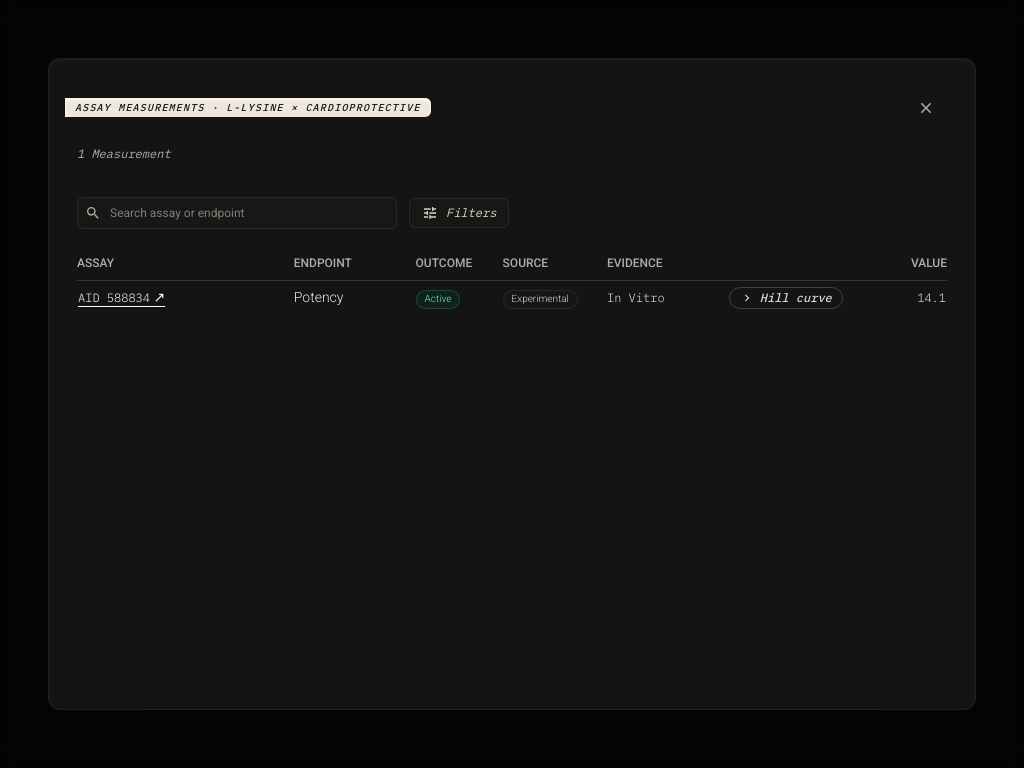
Test case: Hill-fit panel AC50 › says molar when the row has no convertible unit
Click the button with aria-label "show hill curve". click: click(786, 298)
box: [729,287,843,309]
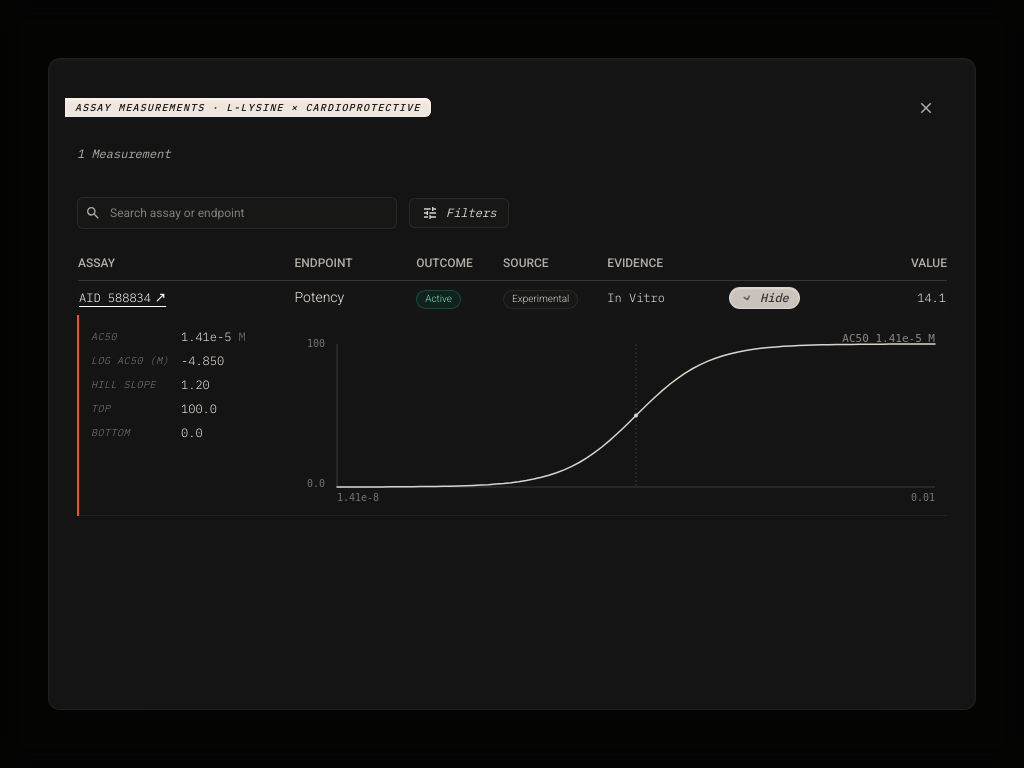
Expected: the text "AC50" is shown, [91,330,117,343]
Expected: the element showing "1.41e-5 M" is shown, [181,329,246,344]
